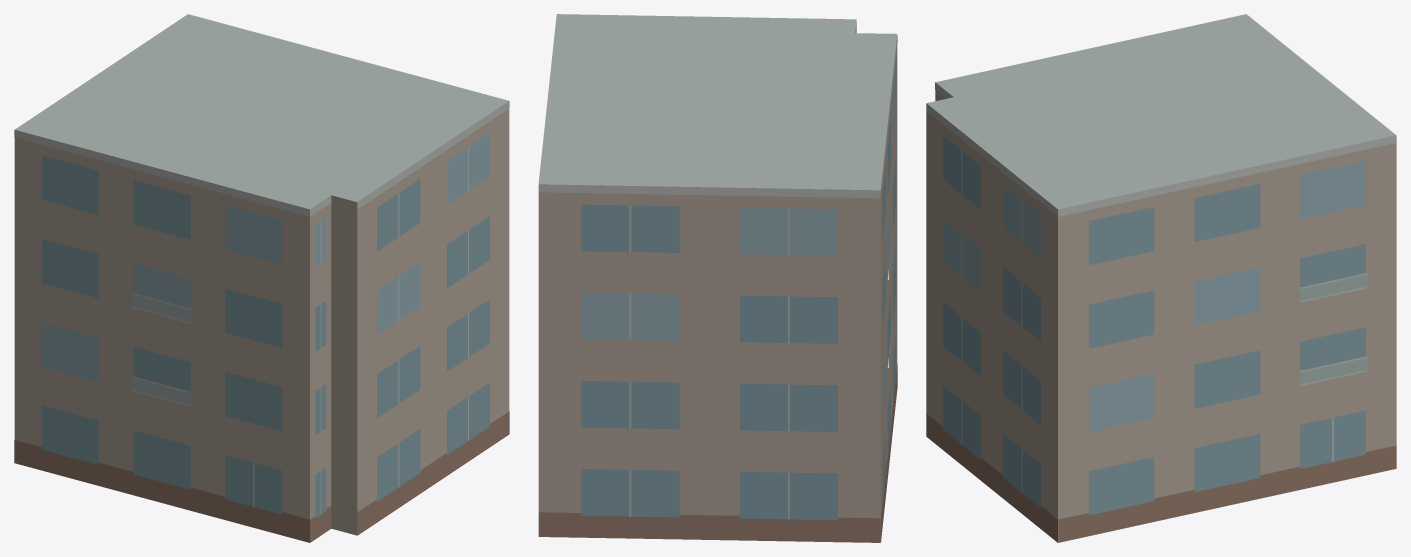
File: survey-upis-32738254.glb
3 views of the same model, side by side, from view 1: azimuth 30°, elevation 25°; view 2: azimuth 150°, elevation 25°; view 3: azimuth 270°, elevation 25° (orthographic). The views are drawn at different scales.
Visible parts, largest first — view 1: survey-upis-32738254.tmp; view 2: survey-upis-32738254.tmp; view 3: survey-upis-32738254.tmp.
Boxes of the visible parts, x1,y1,x2,y2 form: survey-upis-32738254.tmp: (14, 14, 509, 542); survey-upis-32738254.tmp: (538, 14, 897, 542); survey-upis-32738254.tmp: (926, 14, 1396, 542).
Size of the model in its own units: 13.59 by 10.8 by 13.81.
